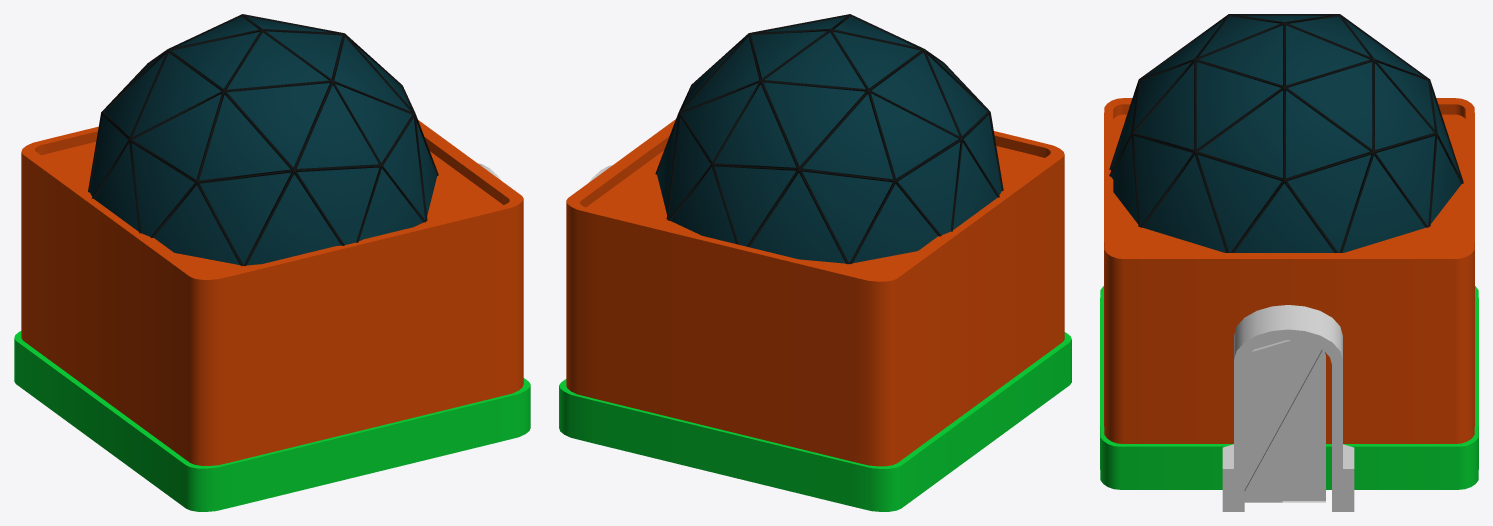
The model's file is maison_cube.fbx.
3 views of the same model, side by side, from view 1: azimuth 30°, elevation 25°; view 2: azimuth 150°, elevation 25°; view 3: azimuth 270°, elevation 25° (orthographic).
Visible parts, largest first — view 1: Cube.040, Icosphere.001, Icosphere.003; view 2: Cube.040, Icosphere.001, Icosphere.003; view 3: Cube.040, Icosphere.001, Cube.048, Icosphere.003, Cube.043.
Part boxes in pixels (bbox=[...]): Cube.040: bbox=[14, 120, 530, 511]; Icosphere.001: bbox=[90, 16, 436, 265]; Icosphere.003: bbox=[88, 14, 438, 266]; Cube.040: bbox=[559, 119, 1071, 511]; Icosphere.001: bbox=[657, 16, 1001, 263]; Icosphere.003: bbox=[655, 14, 1003, 264]; Cube.040: bbox=[1100, 98, 1478, 489]; Icosphere.001: bbox=[1111, 15, 1461, 252]; Cube.048: bbox=[1244, 340, 1325, 502]; Icosphere.003: bbox=[1109, 14, 1463, 252]; Cube.043: bbox=[1222, 305, 1354, 511].
Bounding box in the file's own units: 443 × 415 × 376.
